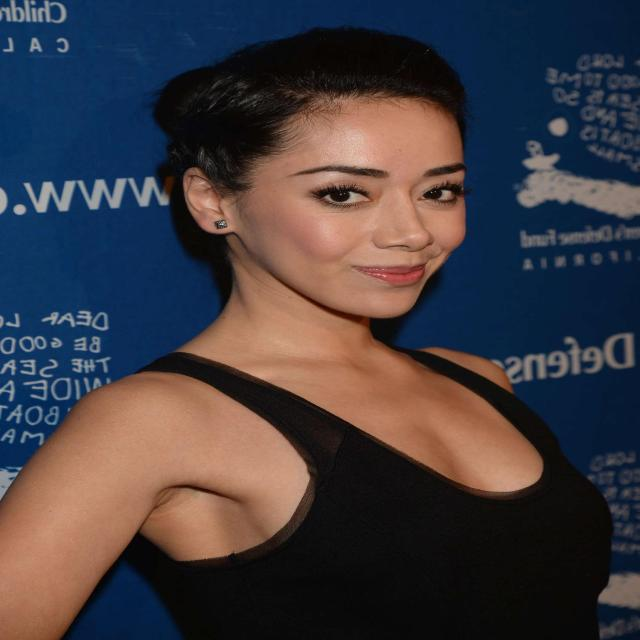no-earmuff: (166, 154, 248, 248)
